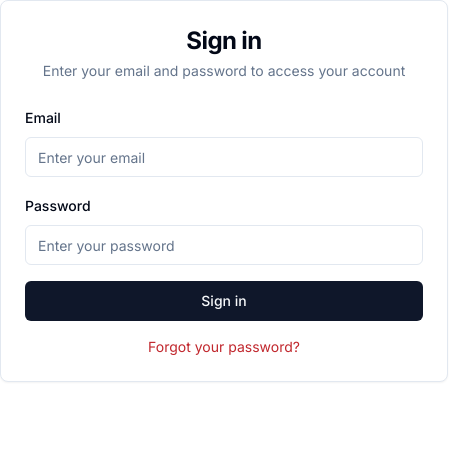
LoginForm › shows validation errors for empty fields
The width and height of the screenshot is (465, 455).
What coordinates should you click on to do the following:
click the button "Sign in"
I would click on:
 (224, 301)
Its box is [25,281,423,321].
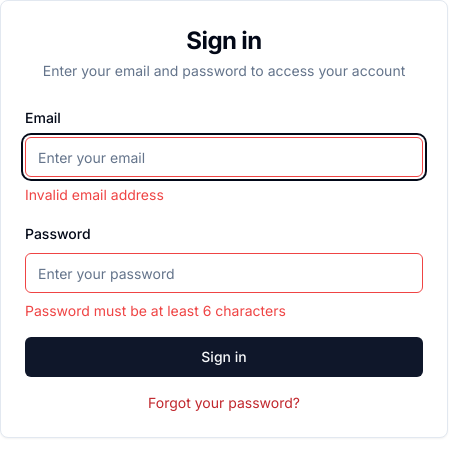
Expected: the text "Invalid email address" is shown, [25,186,164,203]
Expected: the text "Password must be at least 6 characters" is shown, [25,302,286,319]
